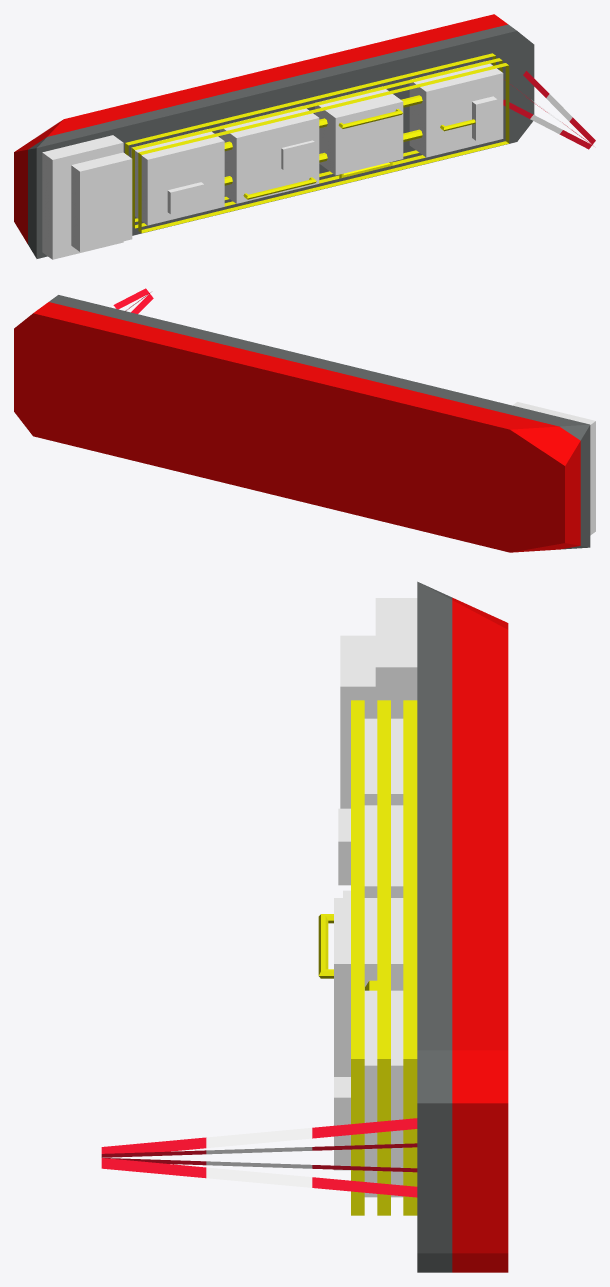
File: fpso.dae
3 renders of one model, top to bottom at view 1: azimuth 30°, elevation 25°; view 2: azimuth 150°, elevation 25°; view 3: azimuth 270°, elevation 25°, orthographic. The views are drawn at different scales.
Parts seen in each view (by area): view 1: coords_ME_ID43_MA_material_3, coords_ME_ID79_MA_material_1, coords_ME_ID35_MA_material_2, coords_ME_ID85_MA_material_1, coords_ME_ID151_MA_material_1, coords_ME_ID103_MA_material_1, coords_ME_ID91_MA_material_1, coords_ME_ID59_MA_material_4, coords_ME_ID51_MA_material_4, coords_ME_ID139_MA_material_3, coords_ME_ID121_MA_material_4, coords_ME_ID145_MA_material_1 (+4 smaller); view 2: coords_ME_ID35_MA_material_2, coords_ME_ID43_MA_material_3, coords_ME_ID79_MA_material_1; view 3: coords_ME_ID35_MA_material_2, coords_ME_ID43_MA_material_3, coords_ME_ID79_MA_material_1, coords_ME_ID121_MA_material_4, coords_ME_ID59_MA_material_4, coords_ME_ID51_MA_material_4, coords_ME_ID91_MA_material_1, coords_ME_ID103_MA_material_1, coords_ME_ID85_MA_material_1, coords_ME_ID151_MA_material_1, coords_ME_ID145_MA_material_1, coords_ME_ID115_MA_material_5 (+6 smaller).
Part boxes in pixels (left/top/right/bottom): coords_ME_ID43_MA_material_3: left=28, top=24, right=534, bottom=258; coords_ME_ID79_MA_material_1: left=42, top=135, right=132, bottom=259; coords_ME_ID35_MA_material_2: left=14, top=14, right=507, bottom=243; coords_ME_ID85_MA_material_1: left=220, top=106, right=319, bottom=203; coords_ME_ID151_MA_material_1: left=131, top=129, right=224, bottom=225; coords_ME_ID103_MA_material_1: left=409, top=61, right=503, bottom=157; coords_ME_ID91_MA_material_1: left=315, top=86, right=403, bottom=175; coords_ME_ID59_MA_material_4: left=138, top=63, right=509, bottom=233; coords_ME_ID51_MA_material_4: left=131, top=58, right=502, bottom=228; coords_ME_ID139_MA_material_3: left=128, top=56, right=492, bottom=218; coords_ME_ID121_MA_material_4: left=125, top=53, right=495, bottom=221; coords_ME_ID145_MA_material_1: left=472, top=96, right=497, bottom=140; coords_ME_ID35_MA_material_2: left=14, top=302, right=580, bottom=552; coords_ME_ID43_MA_material_3: left=49, top=295, right=590, bottom=549; coords_ME_ID79_MA_material_1: left=512, top=402, right=595, bottom=535; coords_ME_ID35_MA_material_2: left=452, top=597, right=508, bottom=1272; coords_ME_ID43_MA_material_3: left=417, top=581, right=452, bottom=1272; coords_ME_ID79_MA_material_1: left=340, top=598, right=417, bottom=808; coords_ME_ID121_MA_material_4: left=403, top=700, right=417, bottom=1215; coords_ME_ID59_MA_material_4: left=351, top=700, right=364, bottom=1215; coords_ME_ID51_MA_material_4: left=377, top=700, right=390, bottom=1215; coords_ME_ID91_MA_material_1: left=334, top=898, right=403, bottom=1076; coords_ME_ID103_MA_material_1: left=364, top=990, right=403, bottom=1197; coords_ME_ID85_MA_material_1: left=364, top=805, right=403, bottom=897; coords_ME_ID151_MA_material_1: left=364, top=718, right=403, bottom=805; coords_ME_ID145_MA_material_1: left=334, top=1077, right=350, bottom=1170; coords_ME_ID115_MA_material_5: left=206, top=1167, right=312, bottom=1187.
Bounding box in the file's own units: 1500 × 320 × 531.
